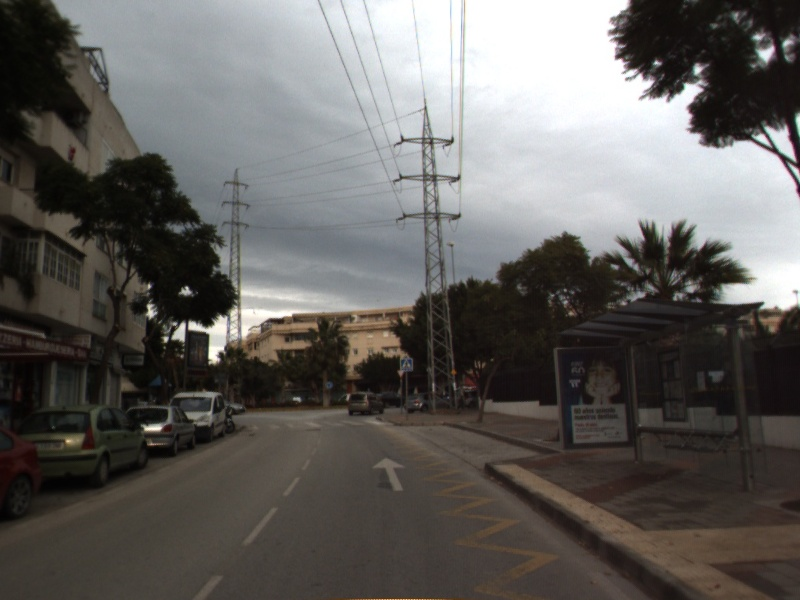STRAIGHT: (371, 456, 408, 493)
